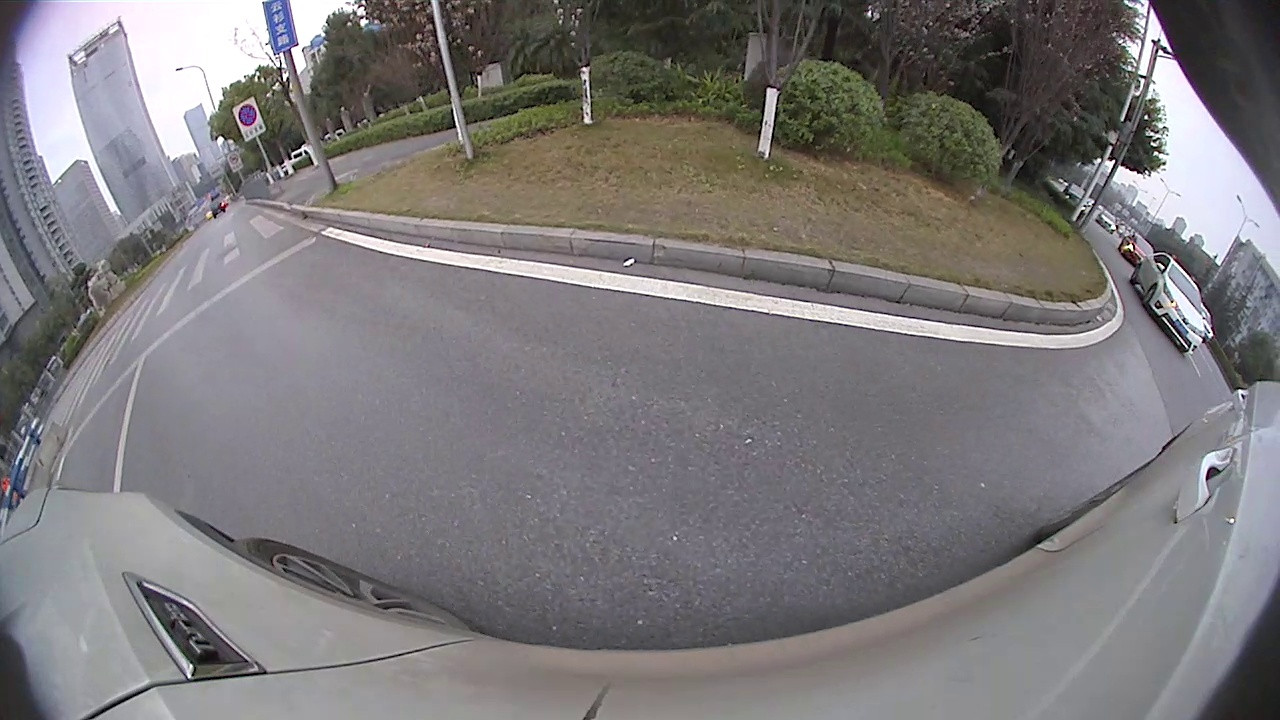bus: (758, 130, 921, 209)
car: (1036, 250, 1278, 452), (910, 154, 1128, 279), (576, 131, 711, 231), (716, 149, 832, 213), (479, 154, 558, 210)
front: (1075, 294, 1165, 395), (915, 204, 937, 234), (719, 180, 731, 199)
rear: (1034, 240, 1067, 279), (747, 179, 762, 209), (527, 181, 539, 206)
